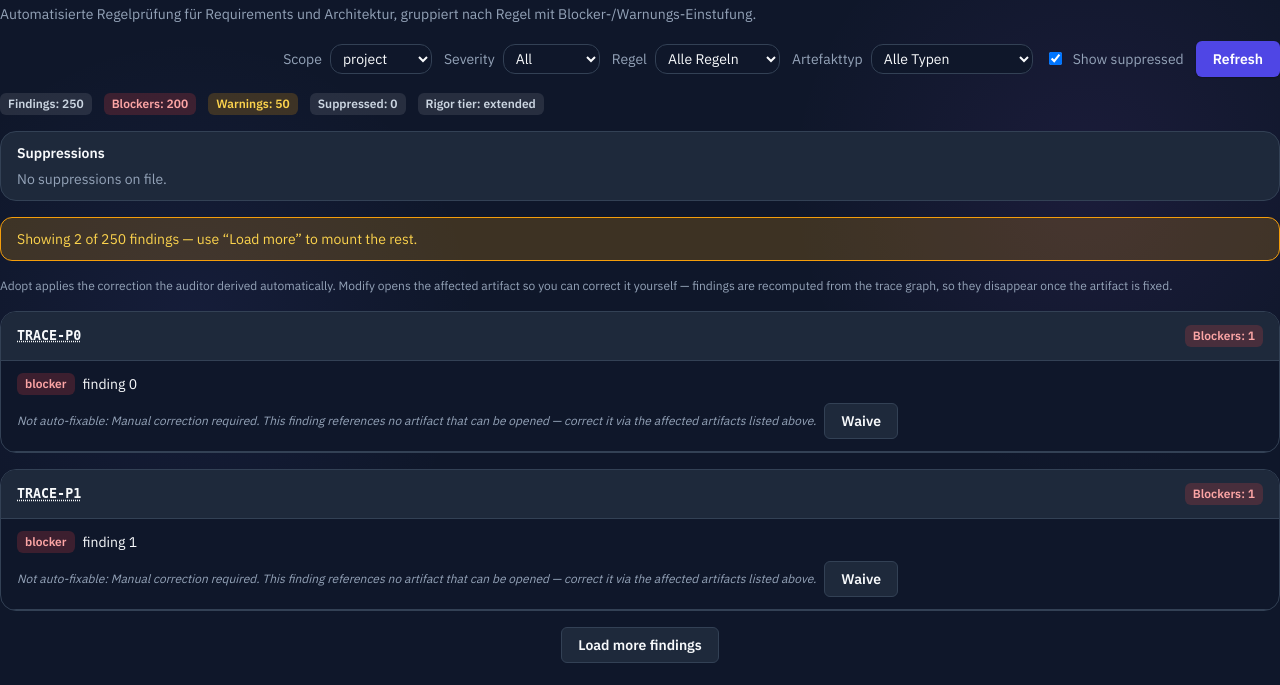
AuditDashboard — paged findings (#596) › does not double-count a waive when Load more adopts a new snapshot (NF-A)
Click the button with test id "audit-waive-0": click(861, 421) top-left (824, 403), bottom-right (898, 439)
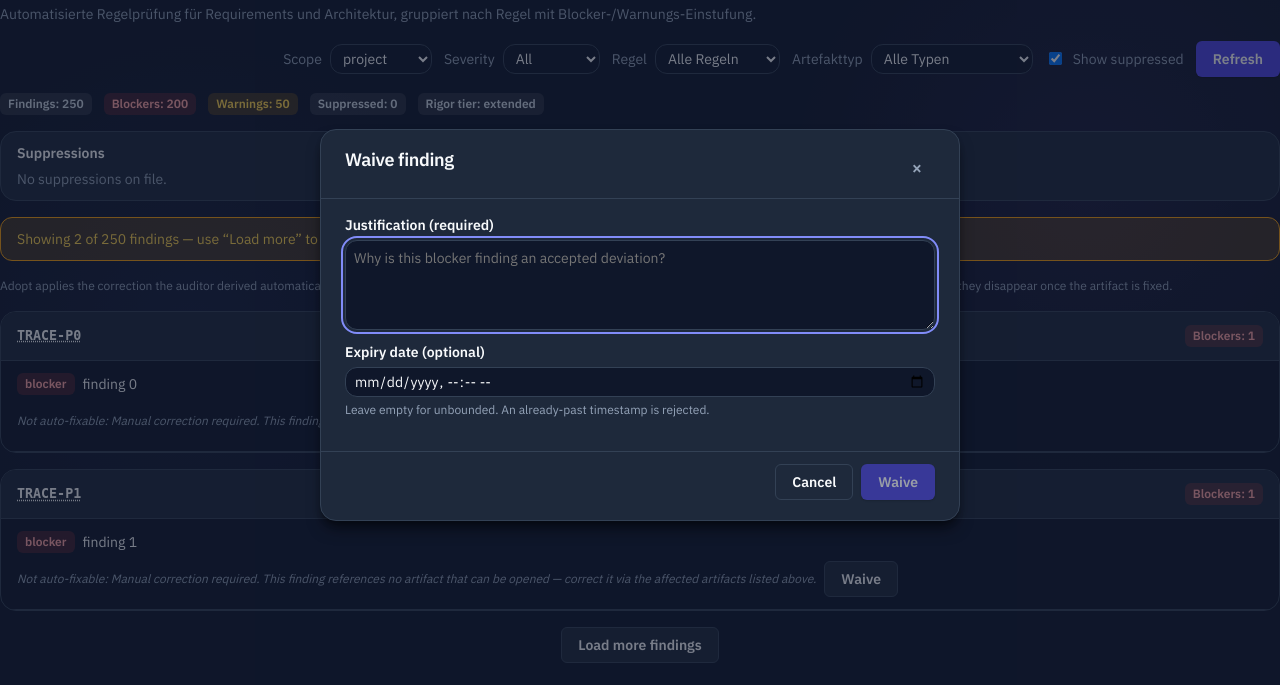
In the text box with test id "audit-waive-reason": (640, 285) top-left (345, 240), bottom-right (935, 330), type "Accepted deviation — documented in the safety case."
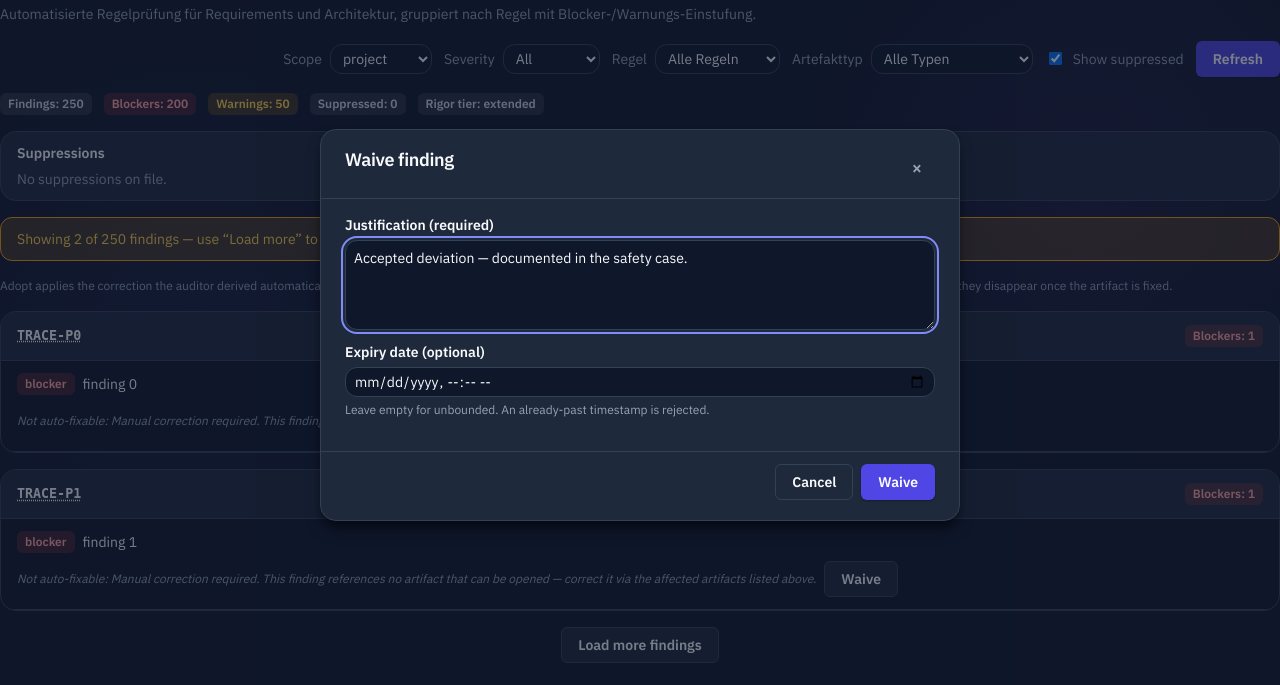
Click the button with test id "audit-waive-confirm": click(898, 482) top-left (861, 464), bottom-right (935, 500)
(page scrolled)
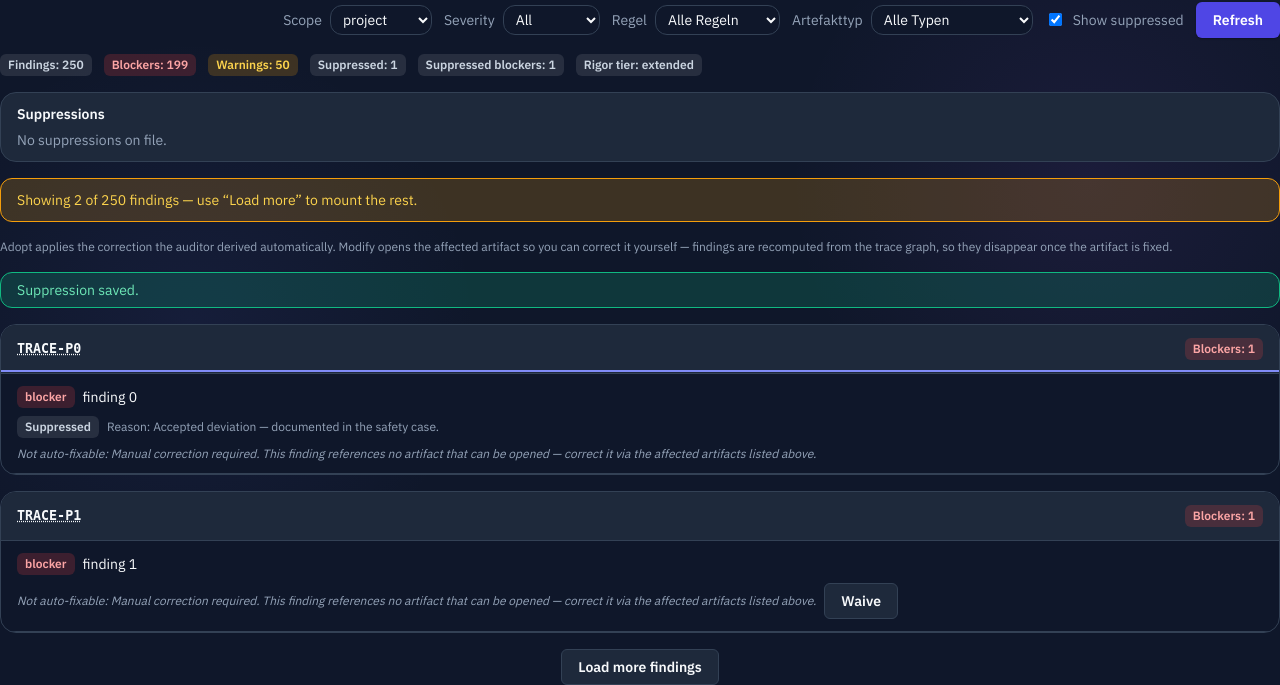
Check: the element with test id "audit-suppressed-badge-0" is shown, box top-left (17, 416), bottom-right (439, 438)
Check: the text with test id "audit-count-blockers" shows "199", box top-left (167, 57), bottom-right (188, 72)
Check: the text with test id "audit-count-suppressed" shows "1", box top-left (390, 57), bottom-right (398, 72)
// No row was removed, so the cursor stays on the server's 2.
Click the button with test id "audit-load-more-btn": click(640, 667) top-left (561, 649), bottom-right (719, 684)
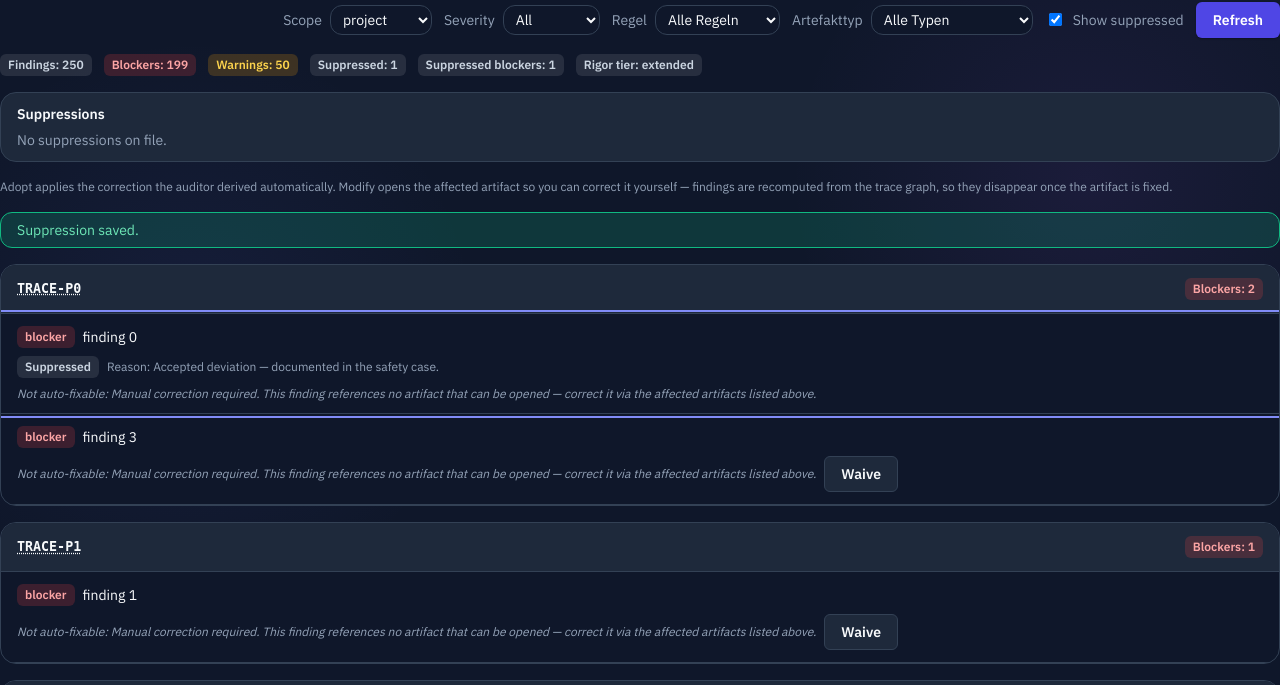
Check: the text with test id "audit-count-total" shows "250", box top-left (62, 57), bottom-right (84, 72)
Check: the text with test id "audit-count-blockers" shows "199", box top-left (167, 57), bottom-right (188, 72)
Check: the message with test id "audit-truncated-banner" is gone
